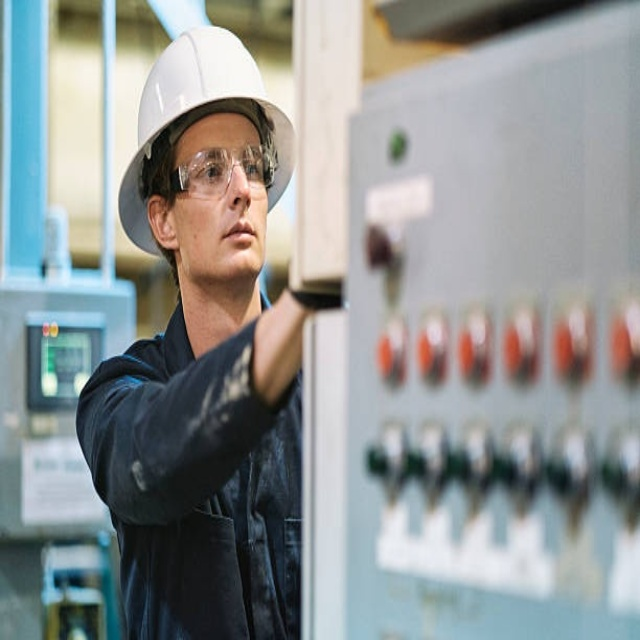Gafas: (166, 144, 274, 199)
Sin_mascara: (210, 212, 268, 265)
